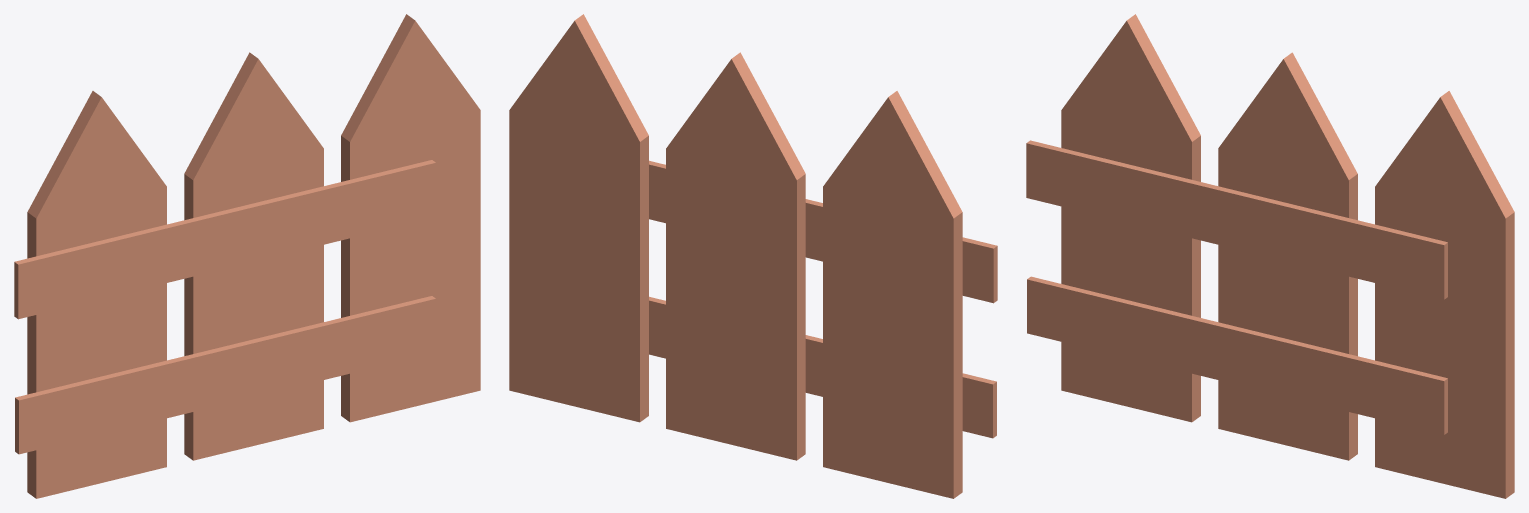
File: SM_Fence3.fbx
The picture shows the model from 3 angles, left to right: view 1: azimuth 30°, elevation 25°; view 2: azimuth 150°, elevation 25°; view 3: azimuth 330°, elevation 25°; orthographic projection.
Parts seen in each view (by area): view 1: Cube.001; view 2: Cube.001; view 3: Cube.001.
Part boxes in pixels (x1=…): Cube.001: x1=14, y1=14, x2=480, y2=498; Cube.001: x1=509, y1=14, x2=997, y2=498; Cube.001: x1=1026, y1=14, x2=1514, y2=498.
Size of the model in its own units: 721 by 564 by 46.11.
